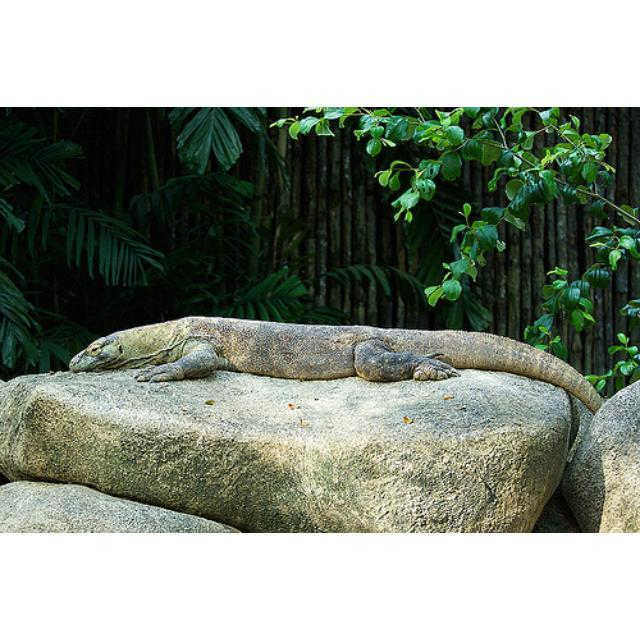KomodoDragon: (67, 315, 602, 412)
